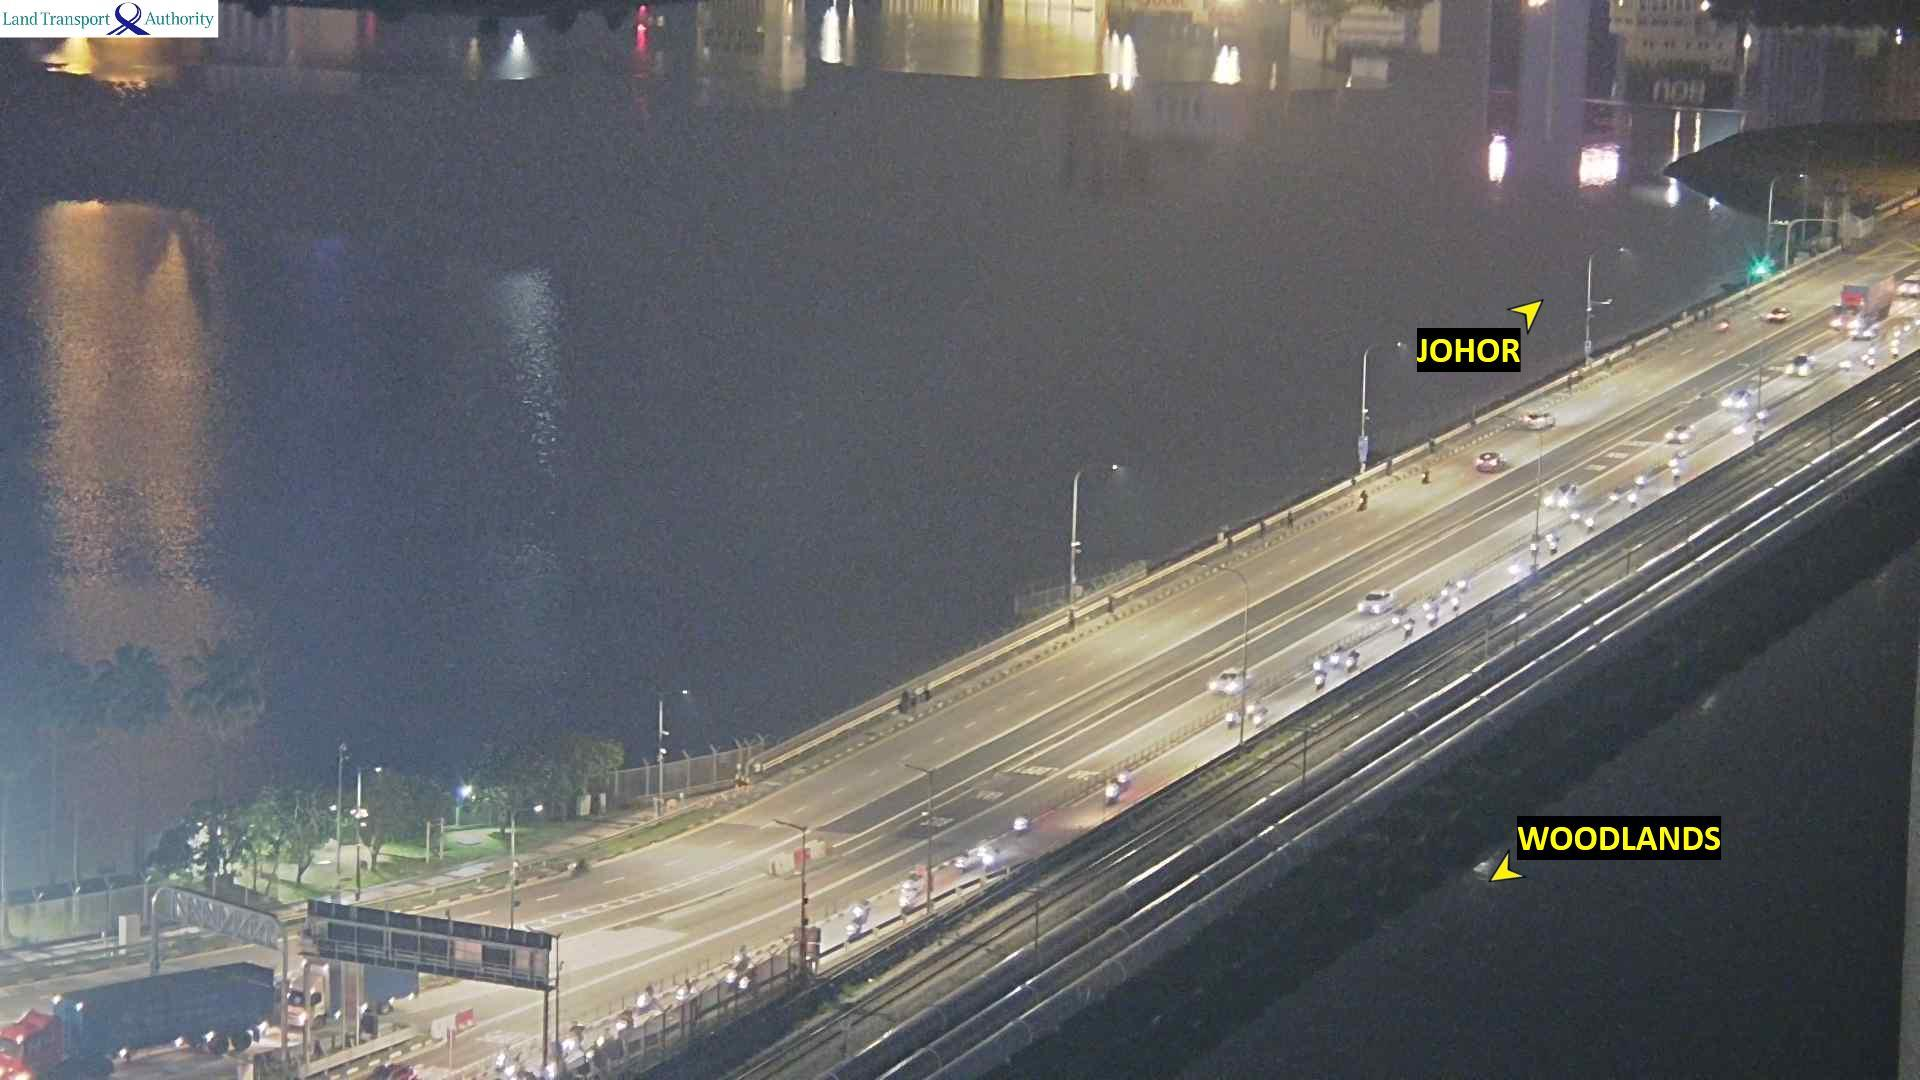vehicle-causeway-johor: (1527, 410, 1560, 430), (1477, 451, 1505, 473), (1764, 305, 1792, 320), (1356, 489, 1369, 512), (1419, 467, 1431, 485), (1717, 319, 1731, 331), (1861, 353, 1869, 361)
vehicle-causeway-singapore: (0, 961, 274, 1080), (287, 967, 418, 1025), (1837, 272, 1894, 323), (551, 1022, 585, 1056), (898, 865, 926, 907), (1212, 667, 1253, 690), (1360, 591, 1393, 615), (1721, 389, 1751, 414), (1545, 484, 1576, 508), (1785, 353, 1816, 377), (1245, 700, 1271, 727), (956, 847, 978, 876), (678, 977, 699, 1007), (724, 963, 744, 993), (738, 964, 760, 992), (849, 895, 870, 923), (1900, 269, 1920, 298), (1665, 423, 1695, 442), (498, 1043, 520, 1067), (729, 945, 750, 968), (637, 986, 657, 1009), (616, 1007, 630, 1035), (1102, 782, 1118, 806), (1225, 707, 1241, 731), (1010, 815, 1031, 832), (1344, 650, 1360, 673), (1329, 642, 1341, 670), (1403, 618, 1416, 640), (1456, 576, 1469, 593), (1313, 673, 1327, 688), (1669, 468, 1681, 484), (1609, 488, 1618, 505), (1547, 542, 1557, 556), (1585, 517, 1596, 530), (1627, 493, 1638, 506), (1440, 582, 1448, 599), (1391, 617, 1402, 628), (1425, 612, 1436, 621), (1545, 533, 1556, 542), (1569, 512, 1580, 521), (1635, 477, 1644, 488), (1451, 597, 1460, 607), (1669, 456, 1679, 465), (1423, 601, 1431, 612), (1869, 347, 1875, 355)
